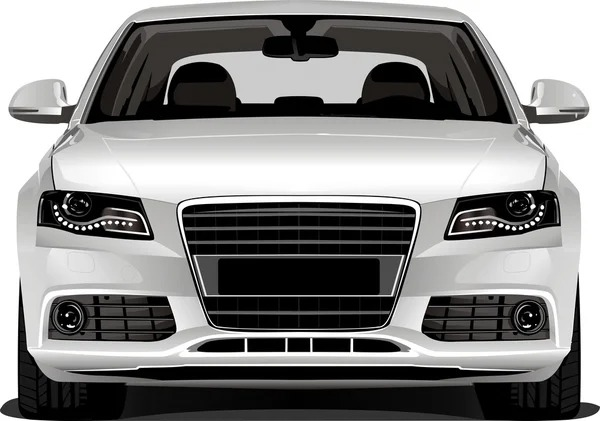car: (22, 1, 594, 415), (19, 2, 584, 421)
